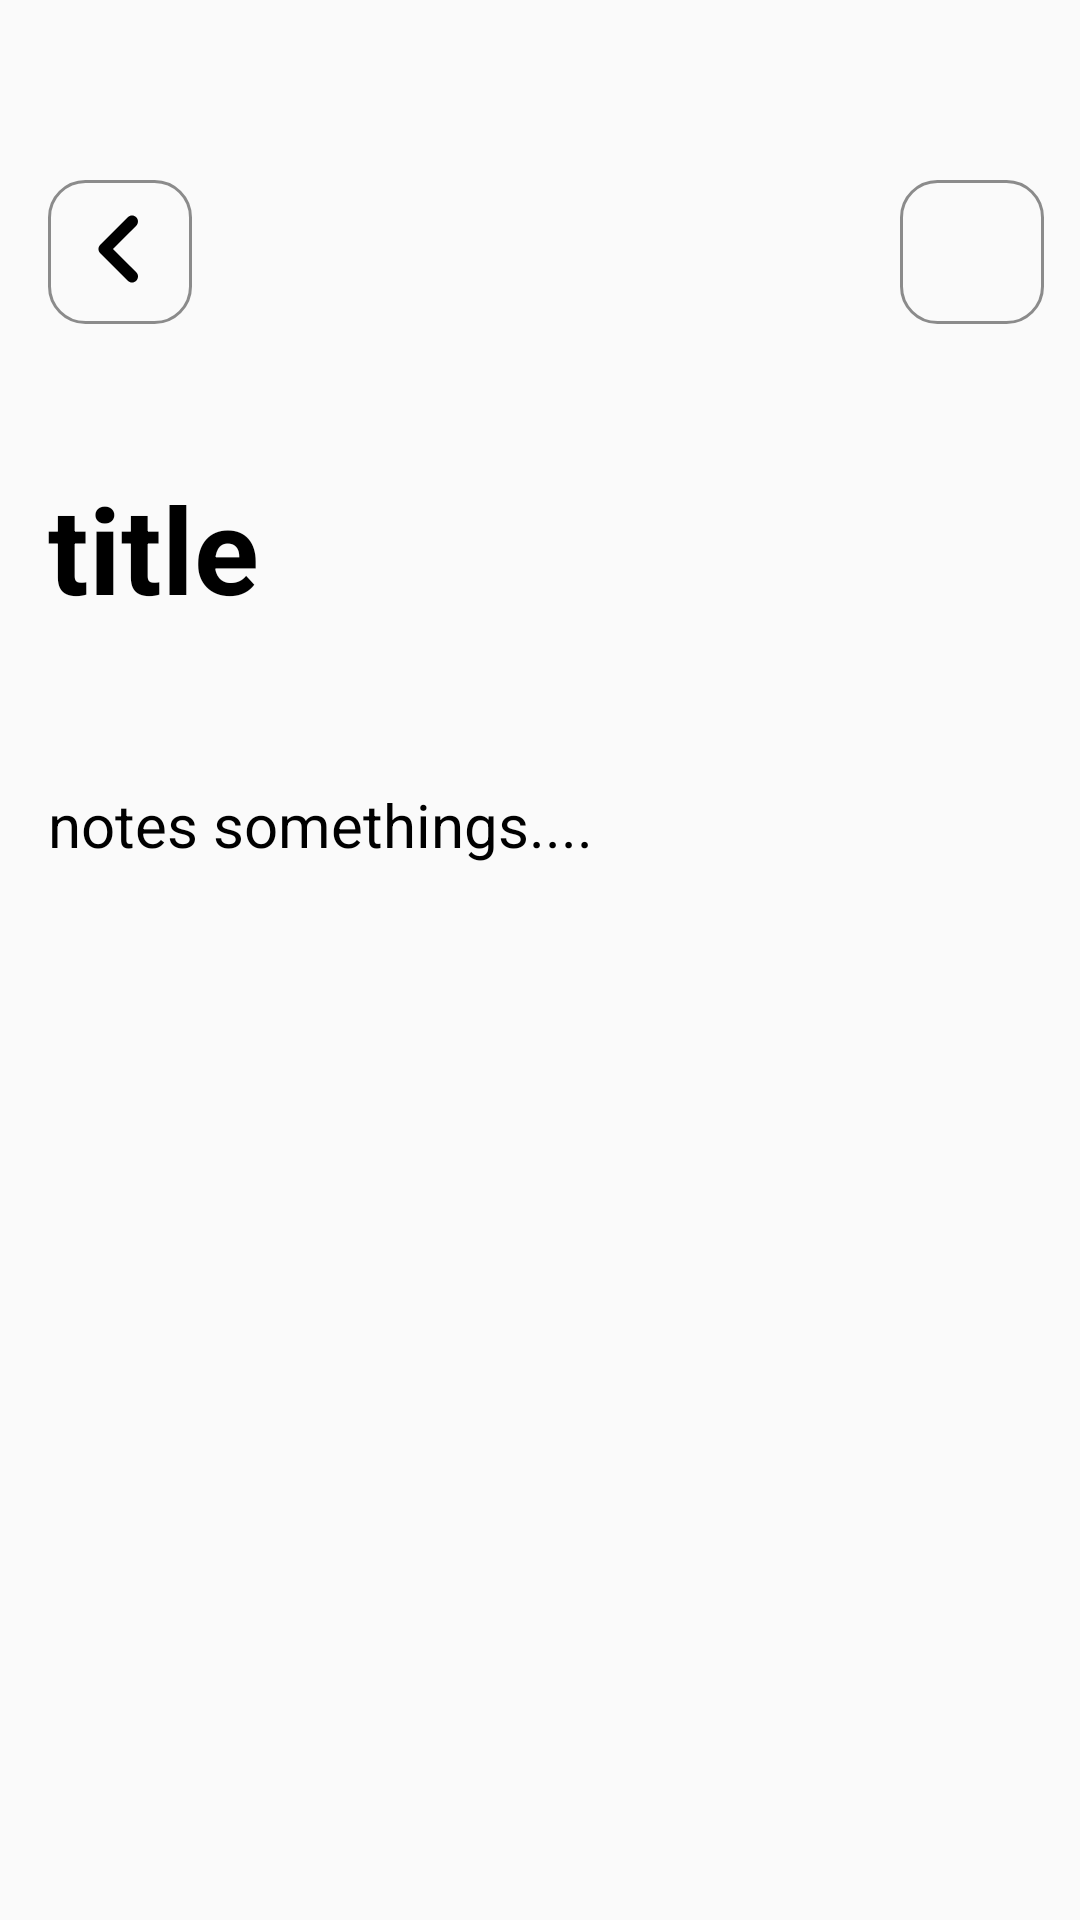

Locate icon controls on the screen. Image size 1080x1920, boxes as BBox(x1, y1, x2, y2).
back press: BBox(48, 180, 192, 324)
